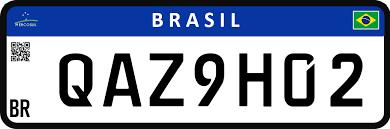Placa_mercosul_carro: (0, 2, 389, 129)
